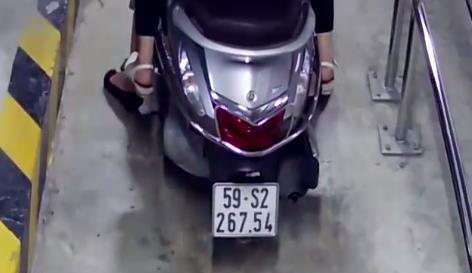lisence: (213, 182, 277, 239)
